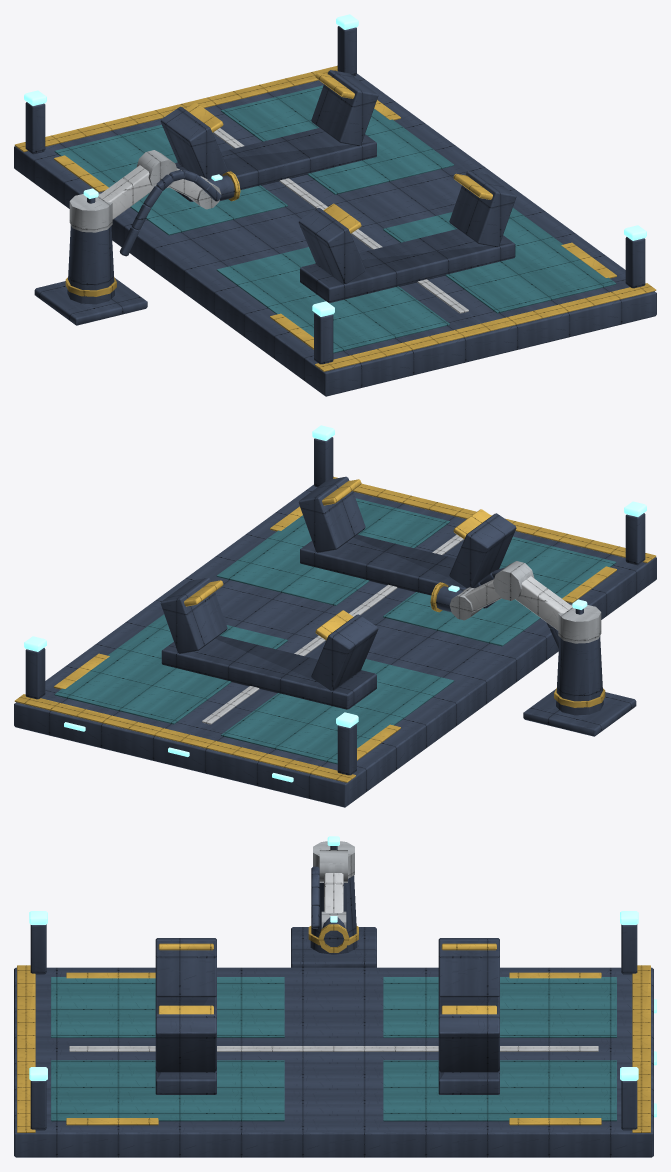
3 renders of one model, top to bottom at view 1: azimuth 30°, elevation 25°; view 2: azimuth 150°, elevation 25°; view 3: azimuth 270°, elevation 25°, orthographic. The views are drawn at different scales.
Visible parts, largest first — view 1: DL014_DockingPadSet_graphite_navy, DL014_DockingPadSet_teal_shell, DL014_DockingPadSet_amber_accent, DL014_DockingPadSet_hull_offwhite, DL014_DockingPadSet_titanium, DL014_DockingPadSet_emissive_cyan; view 2: DL014_DockingPadSet_graphite_navy, DL014_DockingPadSet_teal_shell, DL014_DockingPadSet_amber_accent, DL014_DockingPadSet_hull_offwhite, DL014_DockingPadSet_titanium, DL014_DockingPadSet_emissive_cyan; view 3: DL014_DockingPadSet_graphite_navy, DL014_DockingPadSet_teal_shell, DL014_DockingPadSet_amber_accent, DL014_DockingPadSet_hull_offwhite, DL014_DockingPadSet_titanium, DL014_DockingPadSet_emissive_cyan.
Boxes of the visible parts, x1,y1,x2,y2 form: DL014_DockingPadSet_graphite_navy: (14, 26, 656, 396); DL014_DockingPadSet_teal_shell: (54, 85, 616, 353); DL014_DockingPadSet_amber_accent: (14, 65, 656, 371); DL014_DockingPadSet_hull_offwhite: (98, 128, 468, 313); DL014_DockingPadSet_titanium: (69, 150, 221, 232); DL014_DockingPadSet_emissive_cyan: (24, 14, 646, 316); DL014_DockingPadSet_graphite_navy: (14, 437, 656, 807); DL014_DockingPadSet_teal_shell: (54, 498, 616, 764); DL014_DockingPadSet_amber_accent: (14, 476, 656, 782); DL014_DockingPadSet_hull_offwhite: (202, 534, 572, 724); DL014_DockingPadSet_titanium: (449, 561, 601, 643); DL014_DockingPadSet_emissive_cyan: (24, 425, 646, 782); DL014_DockingPadSet_graphite_navy: (14, 846, 653, 1157); DL014_DockingPadSet_teal_shell: (51, 977, 616, 1121); DL014_DockingPadSet_amber_accent: (17, 924, 650, 1132); DL014_DockingPadSet_hull_offwhite: (69, 873, 598, 1051); DL014_DockingPadSet_titanium: (313, 841, 354, 928); DL014_DockingPadSet_emissive_cyan: (29, 836, 656, 1117).
Size of the model in its own units: 8.6 by 2.4 by 10.45.
Materials: 6 (5 with a texture image).
